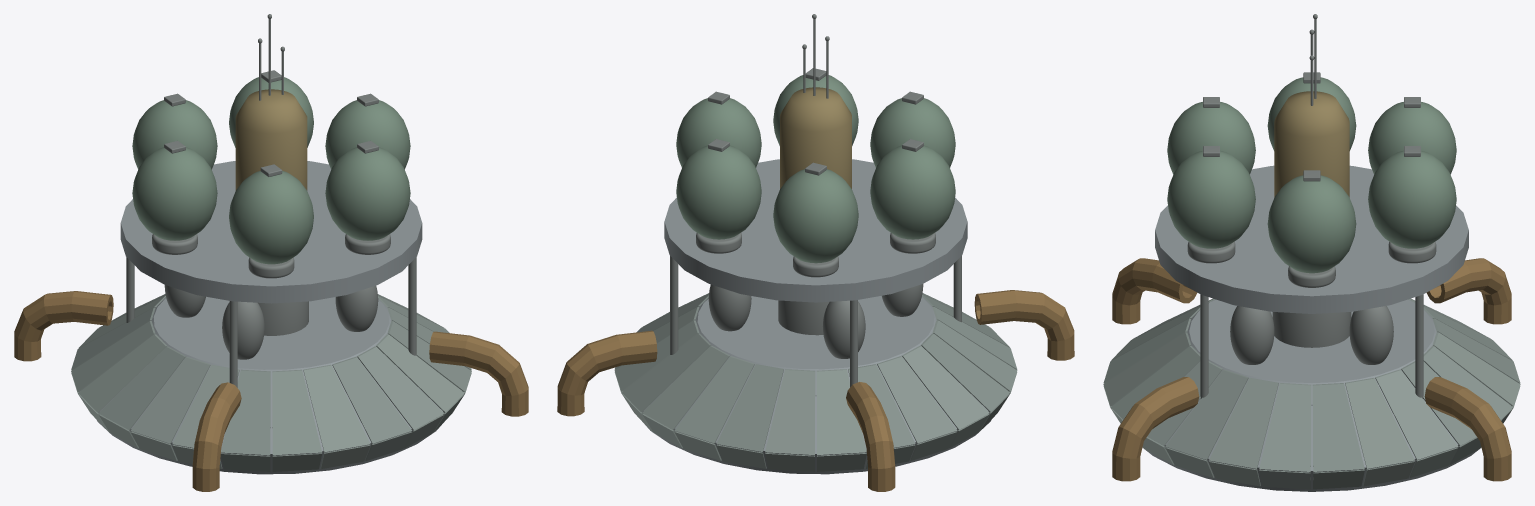
The picture shows the model from 3 angles, left to right: view 1: azimuth 30°, elevation 25°; view 2: azimuth 150°, elevation 25°; view 3: azimuth 270°, elevation 25°; orthographic projection. The views are drawn at different scales.
Visible parts, largest first — view 1: Reactor plinth armour, Reactor raised deck, Reactor flared base, Reactor cooling vessel.003, Reactor cooling vessel.005, Reactor cooling vessel.004, Research control computer tower, Research waste-ore elbow 3, Research waste-ore elbow 1, Reactor cooling vessel, Reactor cooling vessel.002, Research waste-ore elbow 2 (+10 smaller); view 2: Reactor plinth armour, Reactor raised deck, Reactor flared base, Reactor cooling vessel.002, Reactor cooling vessel.003, Reactor cooling vessel.001, Research control computer tower, Research waste-ore elbow 0, Research waste-ore elbow 2, Reactor cooling vessel, Reactor cooling vessel.004, Research waste-ore elbow 1 (+10 smaller); view 3: Reactor plinth armour, Reactor raised deck, Reactor flared base, Reactor cooling vessel, Reactor cooling vessel.001, Reactor cooling vessel.005, Research control computer tower, Reactor cooling vessel.002, Reactor cooling vessel.004, Research waste-ore elbow 0, Research waste-ore elbow 3, Research waste-ore elbow 1 (+10 smaller).
Boxes of the visible parts, box(x1,y1,x2,y2) form: Reactor plinth armour: box(71, 294, 471, 471); Reactor raised deck: box(120, 161, 422, 303); Reactor flared base: box(81, 296, 461, 474); Reactor cooling vessel.003: box(132, 147, 217, 240); Reactor cooling vessel.005: box(325, 147, 410, 240); Reactor cooling vessel.004: box(229, 171, 313, 264); Research control computer tower: box(235, 89, 307, 190); Research waste-ore elbow 3: box(429, 331, 528, 416); Research waste-ore elbow 1: box(14, 291, 113, 361); Reactor cooling vessel: box(325, 100, 410, 169); Reactor cooling vessel.002: box(132, 100, 217, 169); Research waste-ore elbow 2: box(192, 382, 241, 491); Reactor plinth armour: box(614, 293, 1017, 471); Reactor raised deck: box(664, 159, 967, 302); Reactor flared base: box(626, 296, 1005, 474); Reactor cooling vessel.002: box(773, 169, 858, 263); Reactor cooling vessel.003: box(870, 145, 955, 239); Reactor cooling vessel.001: box(676, 145, 761, 239); Research control computer tower: box(780, 87, 851, 188); Research waste-ore elbow 0: box(557, 330, 657, 416); Research waste-ore elbow 2: box(974, 290, 1074, 360); Reactor cooling vessel: box(676, 98, 761, 167); Reactor cooling vessel.004: box(870, 98, 955, 167); Research waste-ore elbow 1: box(846, 382, 895, 491); Reactor plinth armour: box(1103, 298, 1520, 489); Reactor raised deck: box(1155, 165, 1468, 313); Reactor flared base: box(1115, 299, 1508, 491); Reactor cooling vessel: box(1267, 175, 1356, 273); Reactor cooling vessel.001: box(1368, 151, 1456, 248); Reactor cooling vessel.005: box(1167, 151, 1255, 248); Research control computer tower: box(1274, 91, 1349, 197); Reactor cooling vessel.002: box(1368, 102, 1456, 174); Reactor cooling vessel.004: box(1167, 102, 1255, 174); Research waste-ore elbow 0: box(1424, 377, 1511, 481); Research waste-ore elbow 3: box(1112, 377, 1199, 481); Research waste-ore elbow 1: box(1426, 258, 1511, 324).
Bounding box in the file's own units: 2.45 × 2.57 × 2.45.
